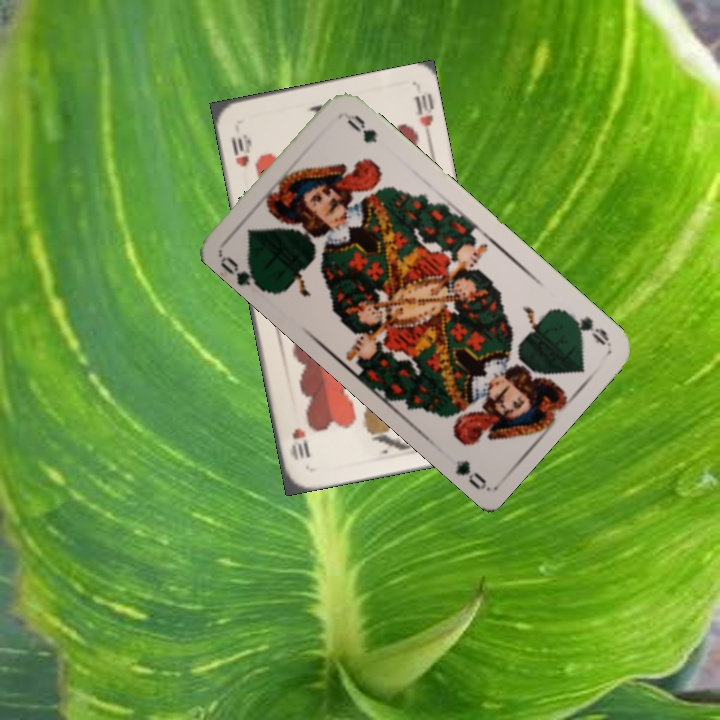GO: (216, 252, 268, 295), (560, 306, 612, 348)
H10: (227, 129, 252, 169)
